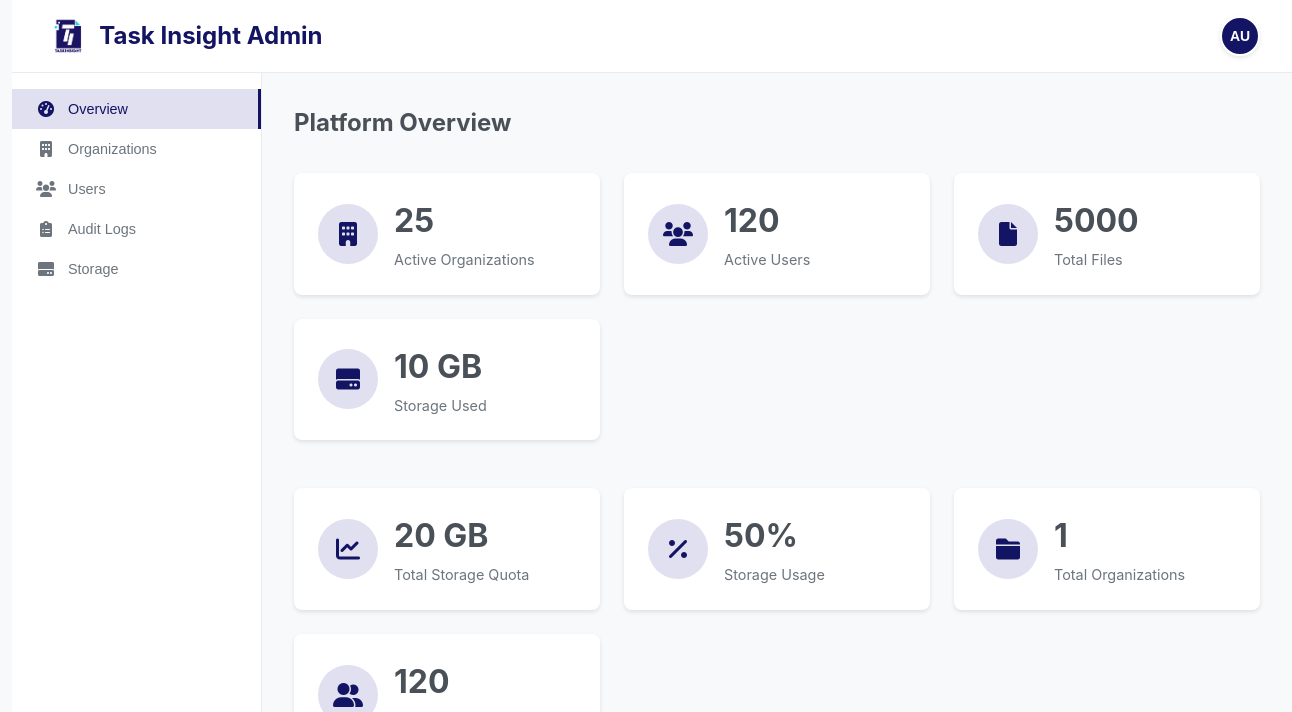
Test: AdminPanel Component › navigates to organizations view
Check: the heading "Platform Overview" is shown, box top-left (294, 108), bottom-right (512, 137)
Click the button "Organizations" at (136, 149), box top-left (12, 129), bottom-right (261, 169)
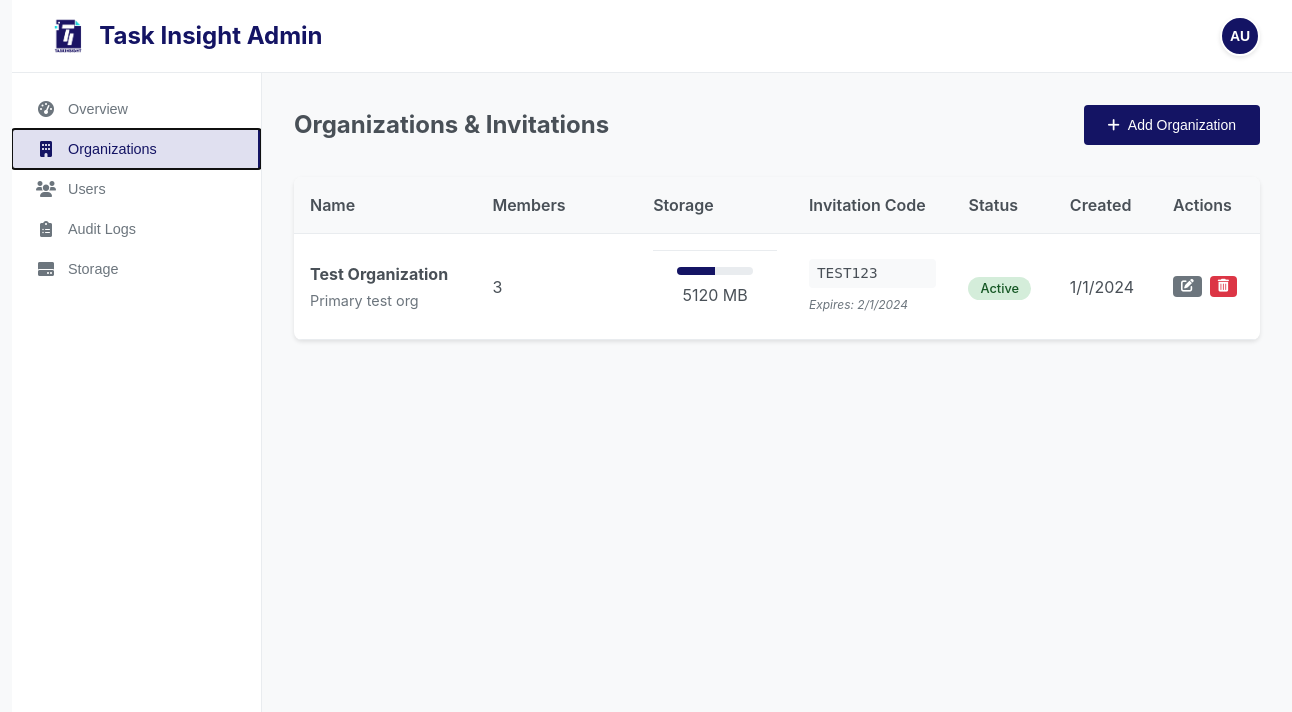
Check: the heading "Organizations & Invitations" is shown, box top-left (294, 107), bottom-right (609, 143)
Check: the text "Test Organization" is shown, box top-left (310, 262), bottom-right (460, 286)
